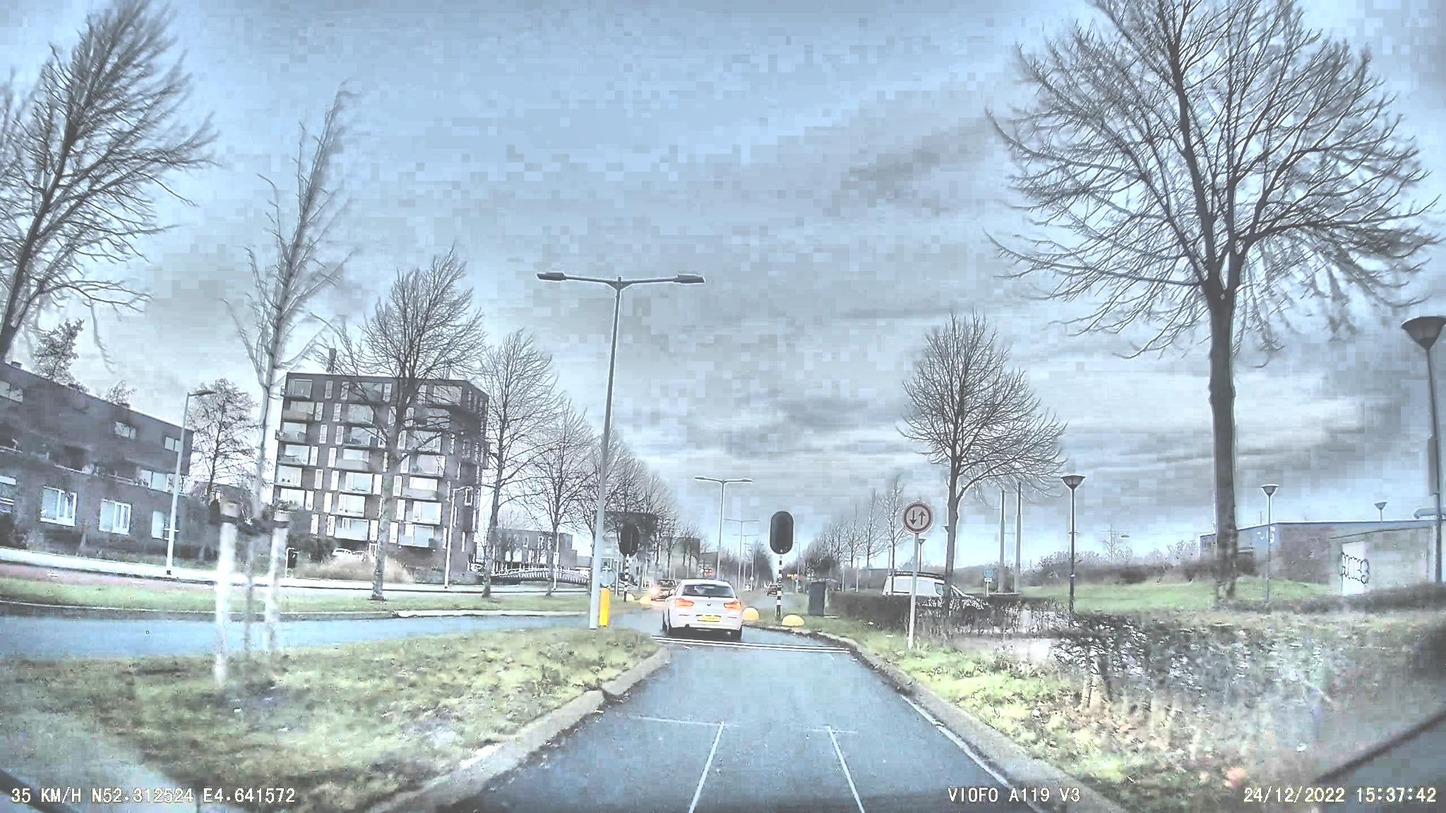Roads: (372, 619, 1129, 813)
